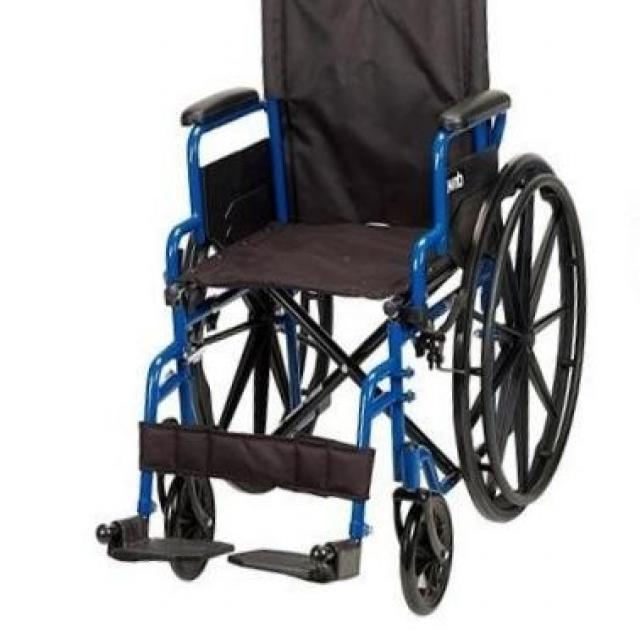wheelchair: (88, 0, 584, 622)
